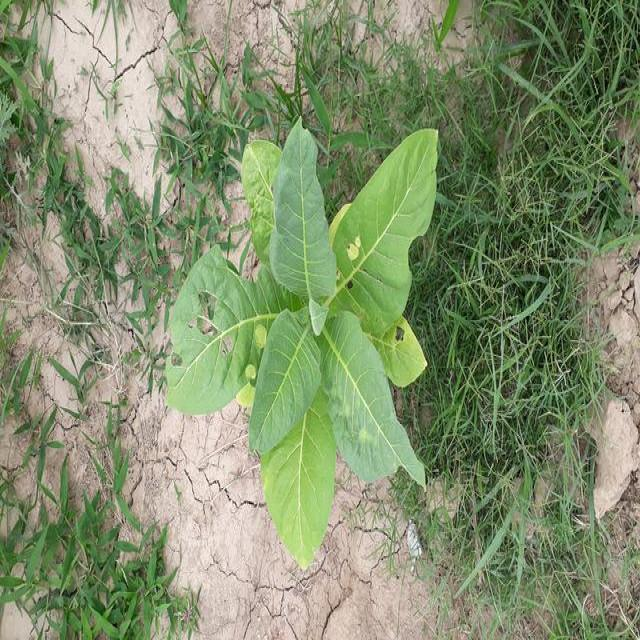crop: (159, 120, 438, 572)
